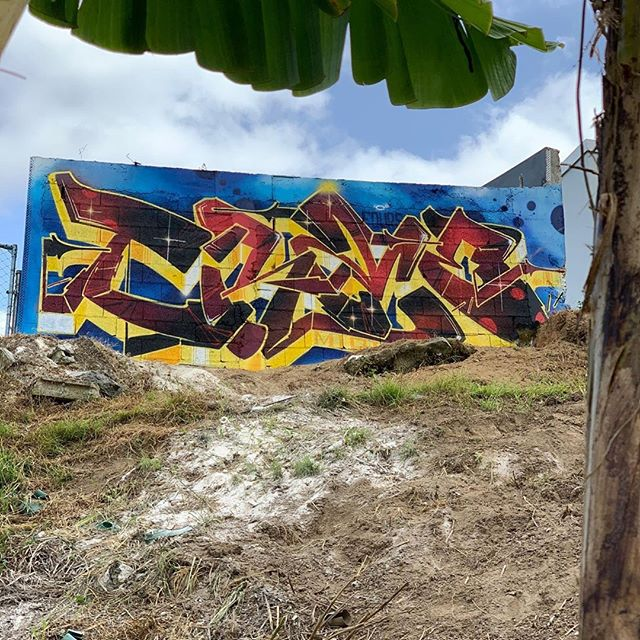graffiti: (28, 161, 561, 355)
